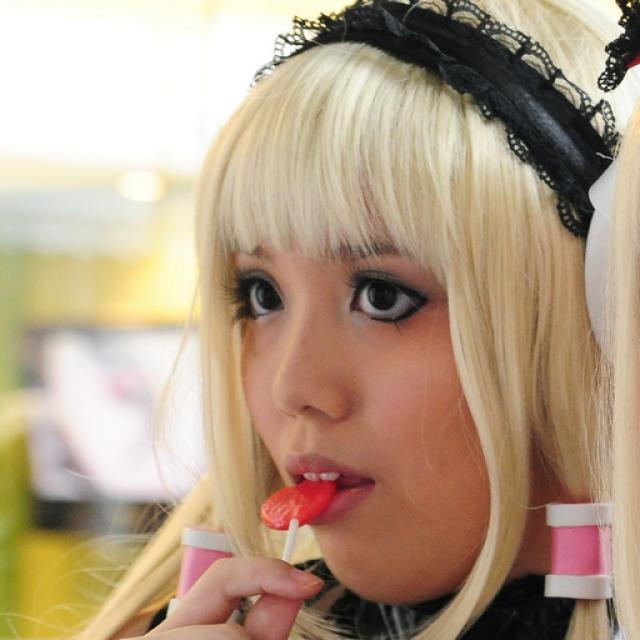sad: (236, 112, 522, 616)
